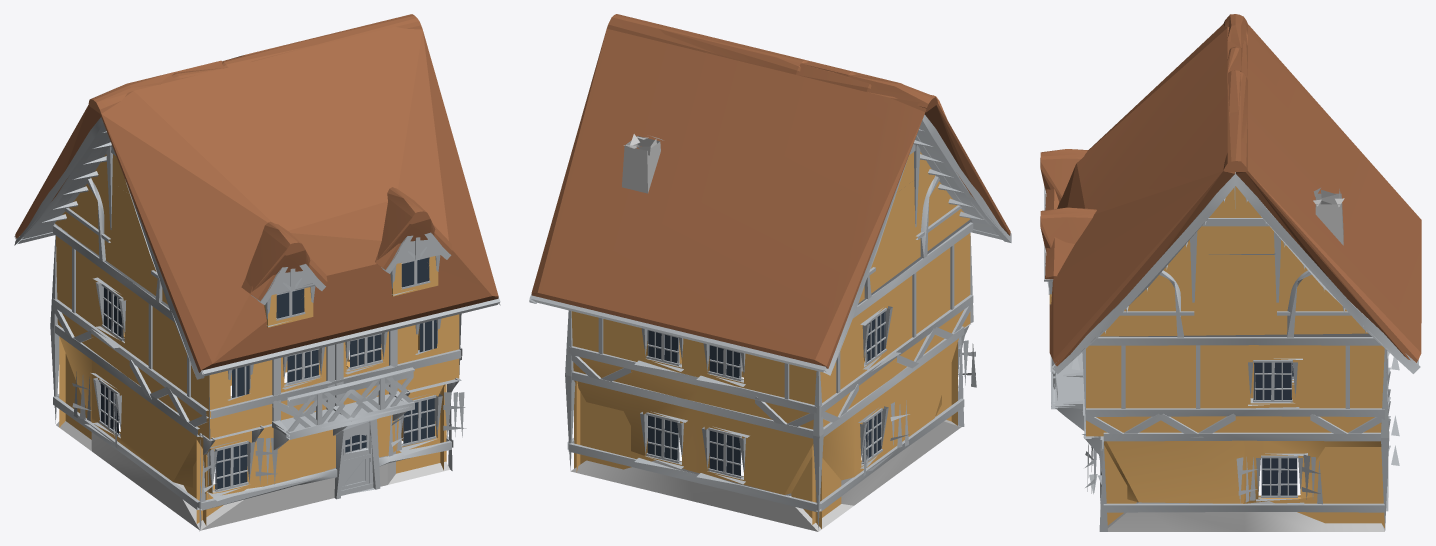
File: generated.townhouse_balcony.gltf
3 renders of one model, left to right at view 1: azimuth 30°, elevation 25°; view 2: azimuth 150°, elevation 25°; view 3: azimuth 270°, elevation 25°, orthographic. The views are drawn at different scales.
Parts seen in each view (by area): view 1: lod; view 2: lod; view 3: lod.
Part boxes in pixels (box(x1,y1,x2,y2)): lod: box(14, 14, 500, 531); lod: box(529, 14, 1011, 531); lod: box(1040, 14, 1421, 531).
Bounding box in the file's own units: 10.33 × 12.13 × 10.84.
